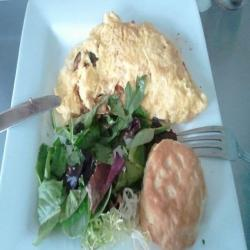bread: (139, 141, 205, 249)
omelette: (59, 16, 204, 127)
salad: (51, 121, 138, 229)
